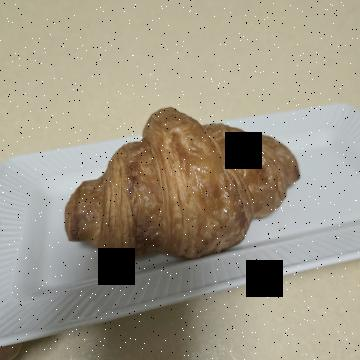croissant: (96, 51, 269, 305)
